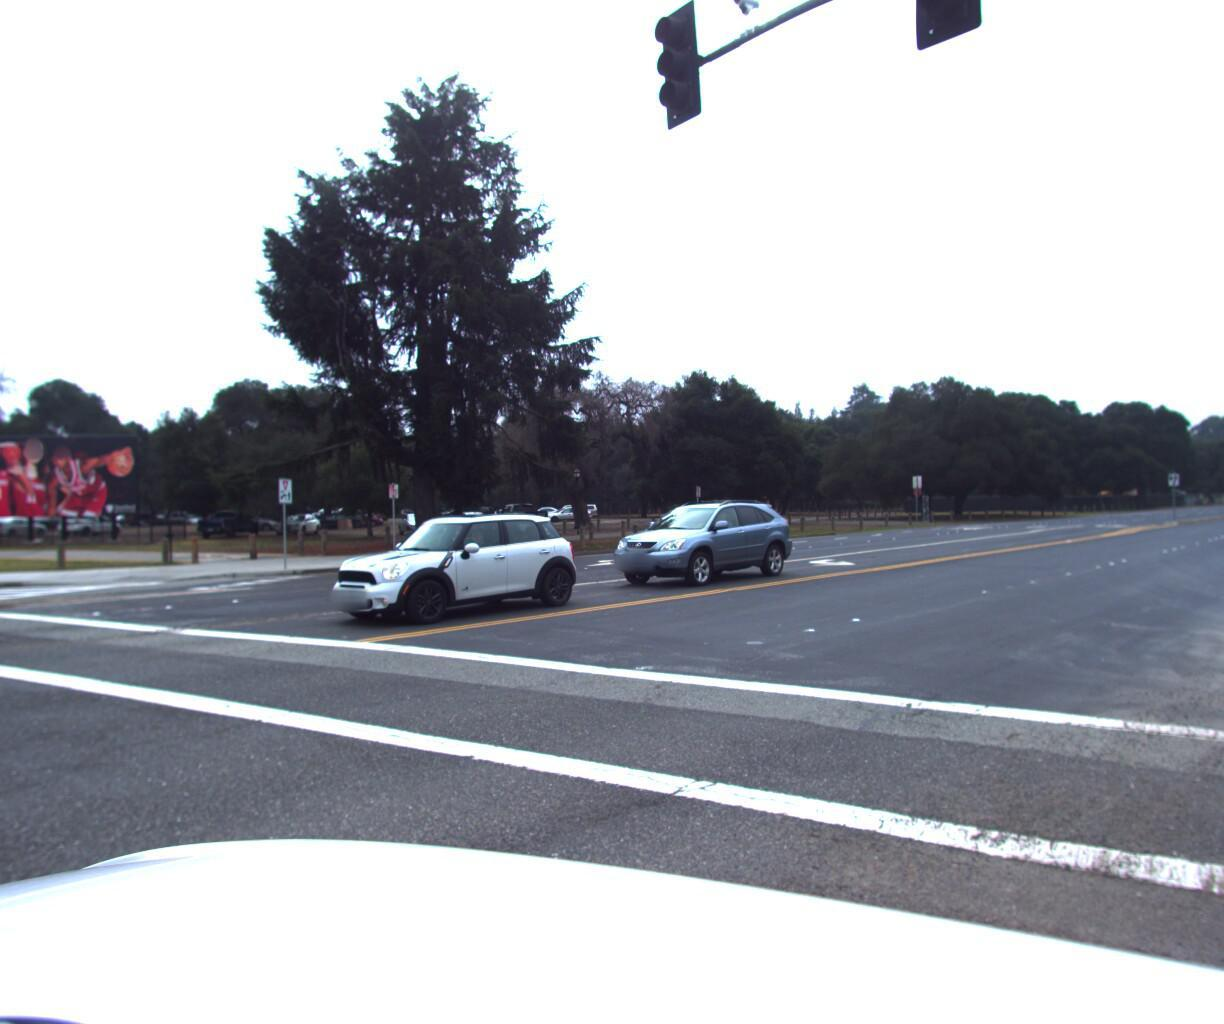car: (305, 509, 580, 629), (588, 495, 797, 588)
